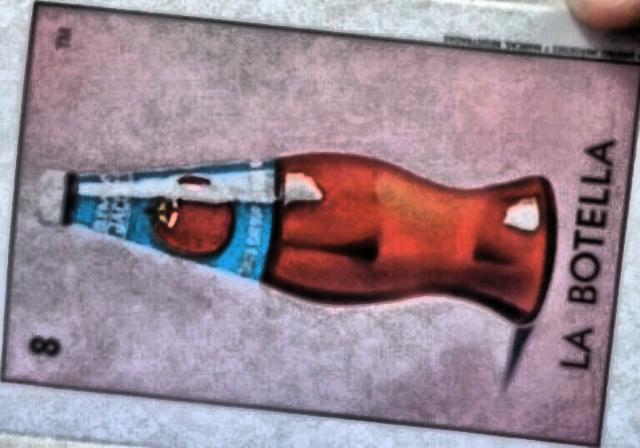La Botella: (1, 0, 638, 447)
